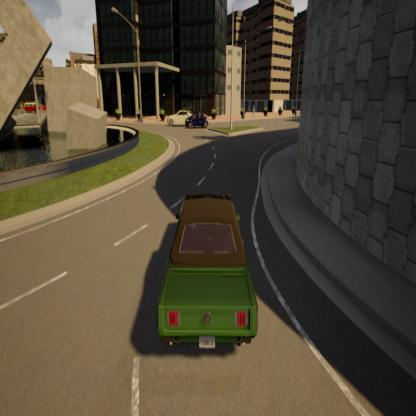Cars: (156, 187, 264, 361), (166, 109, 196, 130), (185, 106, 210, 131)
